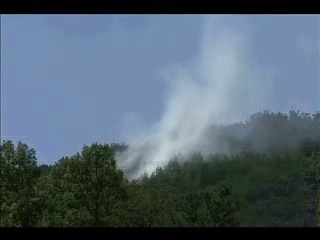smoke: (174, 12, 283, 151), (111, 99, 194, 183)
